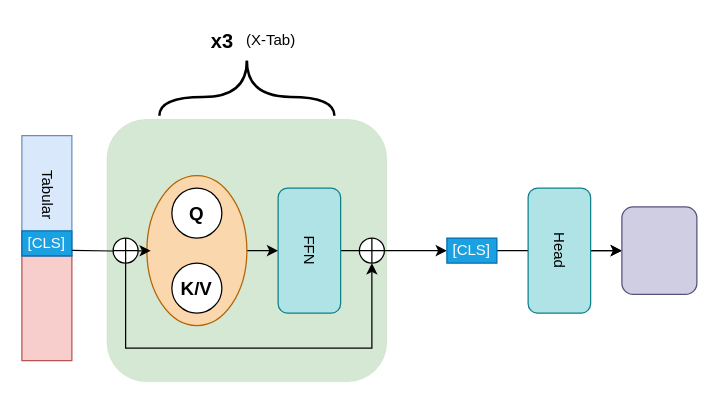
Some shapes in this 719 by 414 pixel diagram are drawn without their labels. The centre of each missing label's shape, as x and y in pixels:
Output: the point at 659,250
Time series: the point at 46,308
